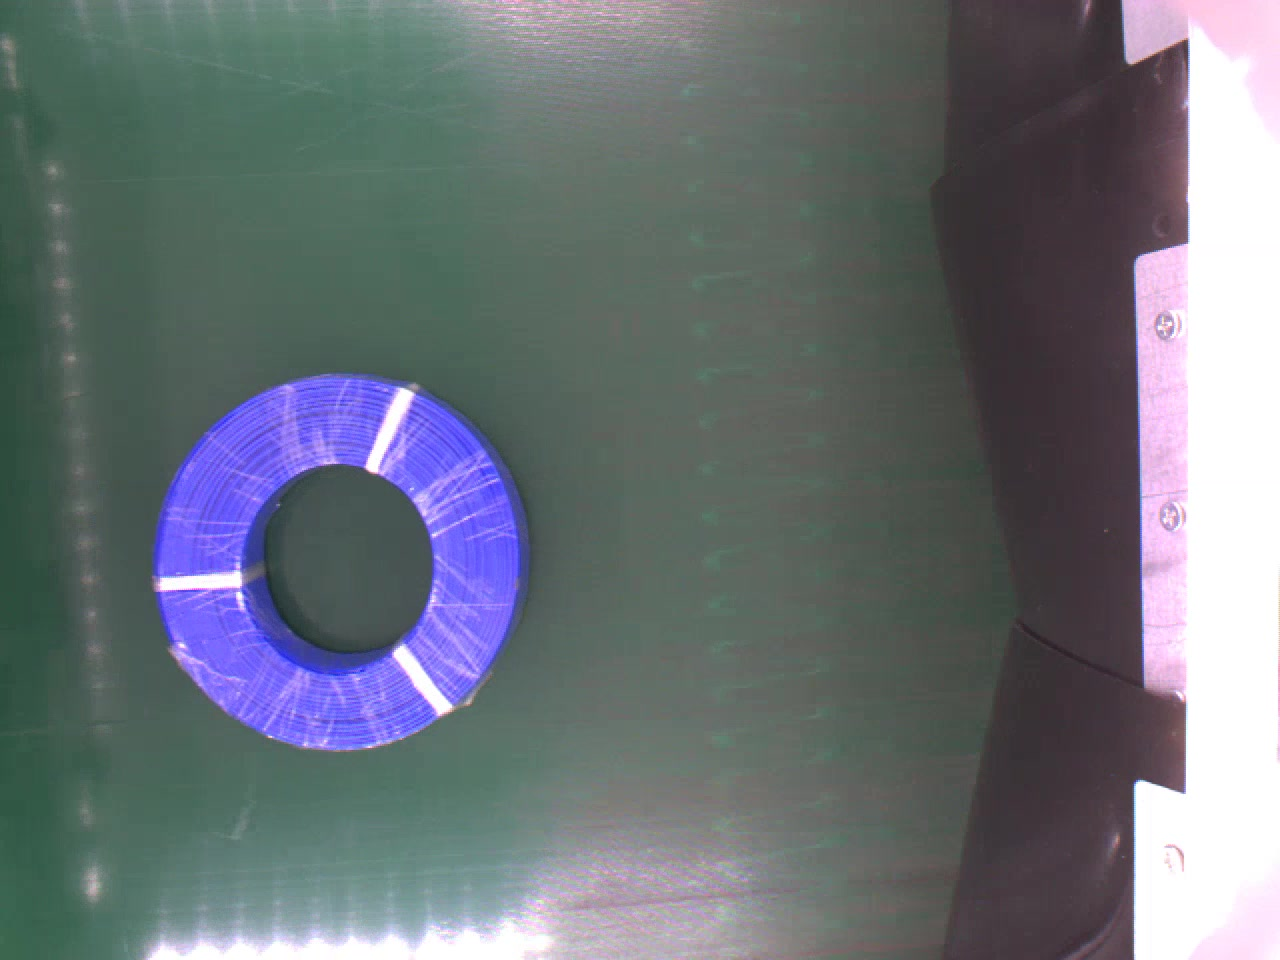blue: (149, 366, 537, 752)
